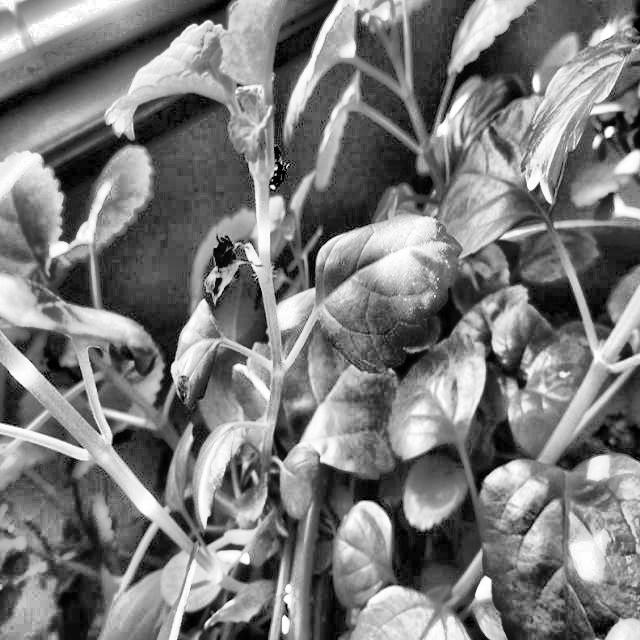plants: (6, 23, 639, 639), (172, 310, 238, 410), (202, 228, 252, 306), (266, 142, 298, 205)
